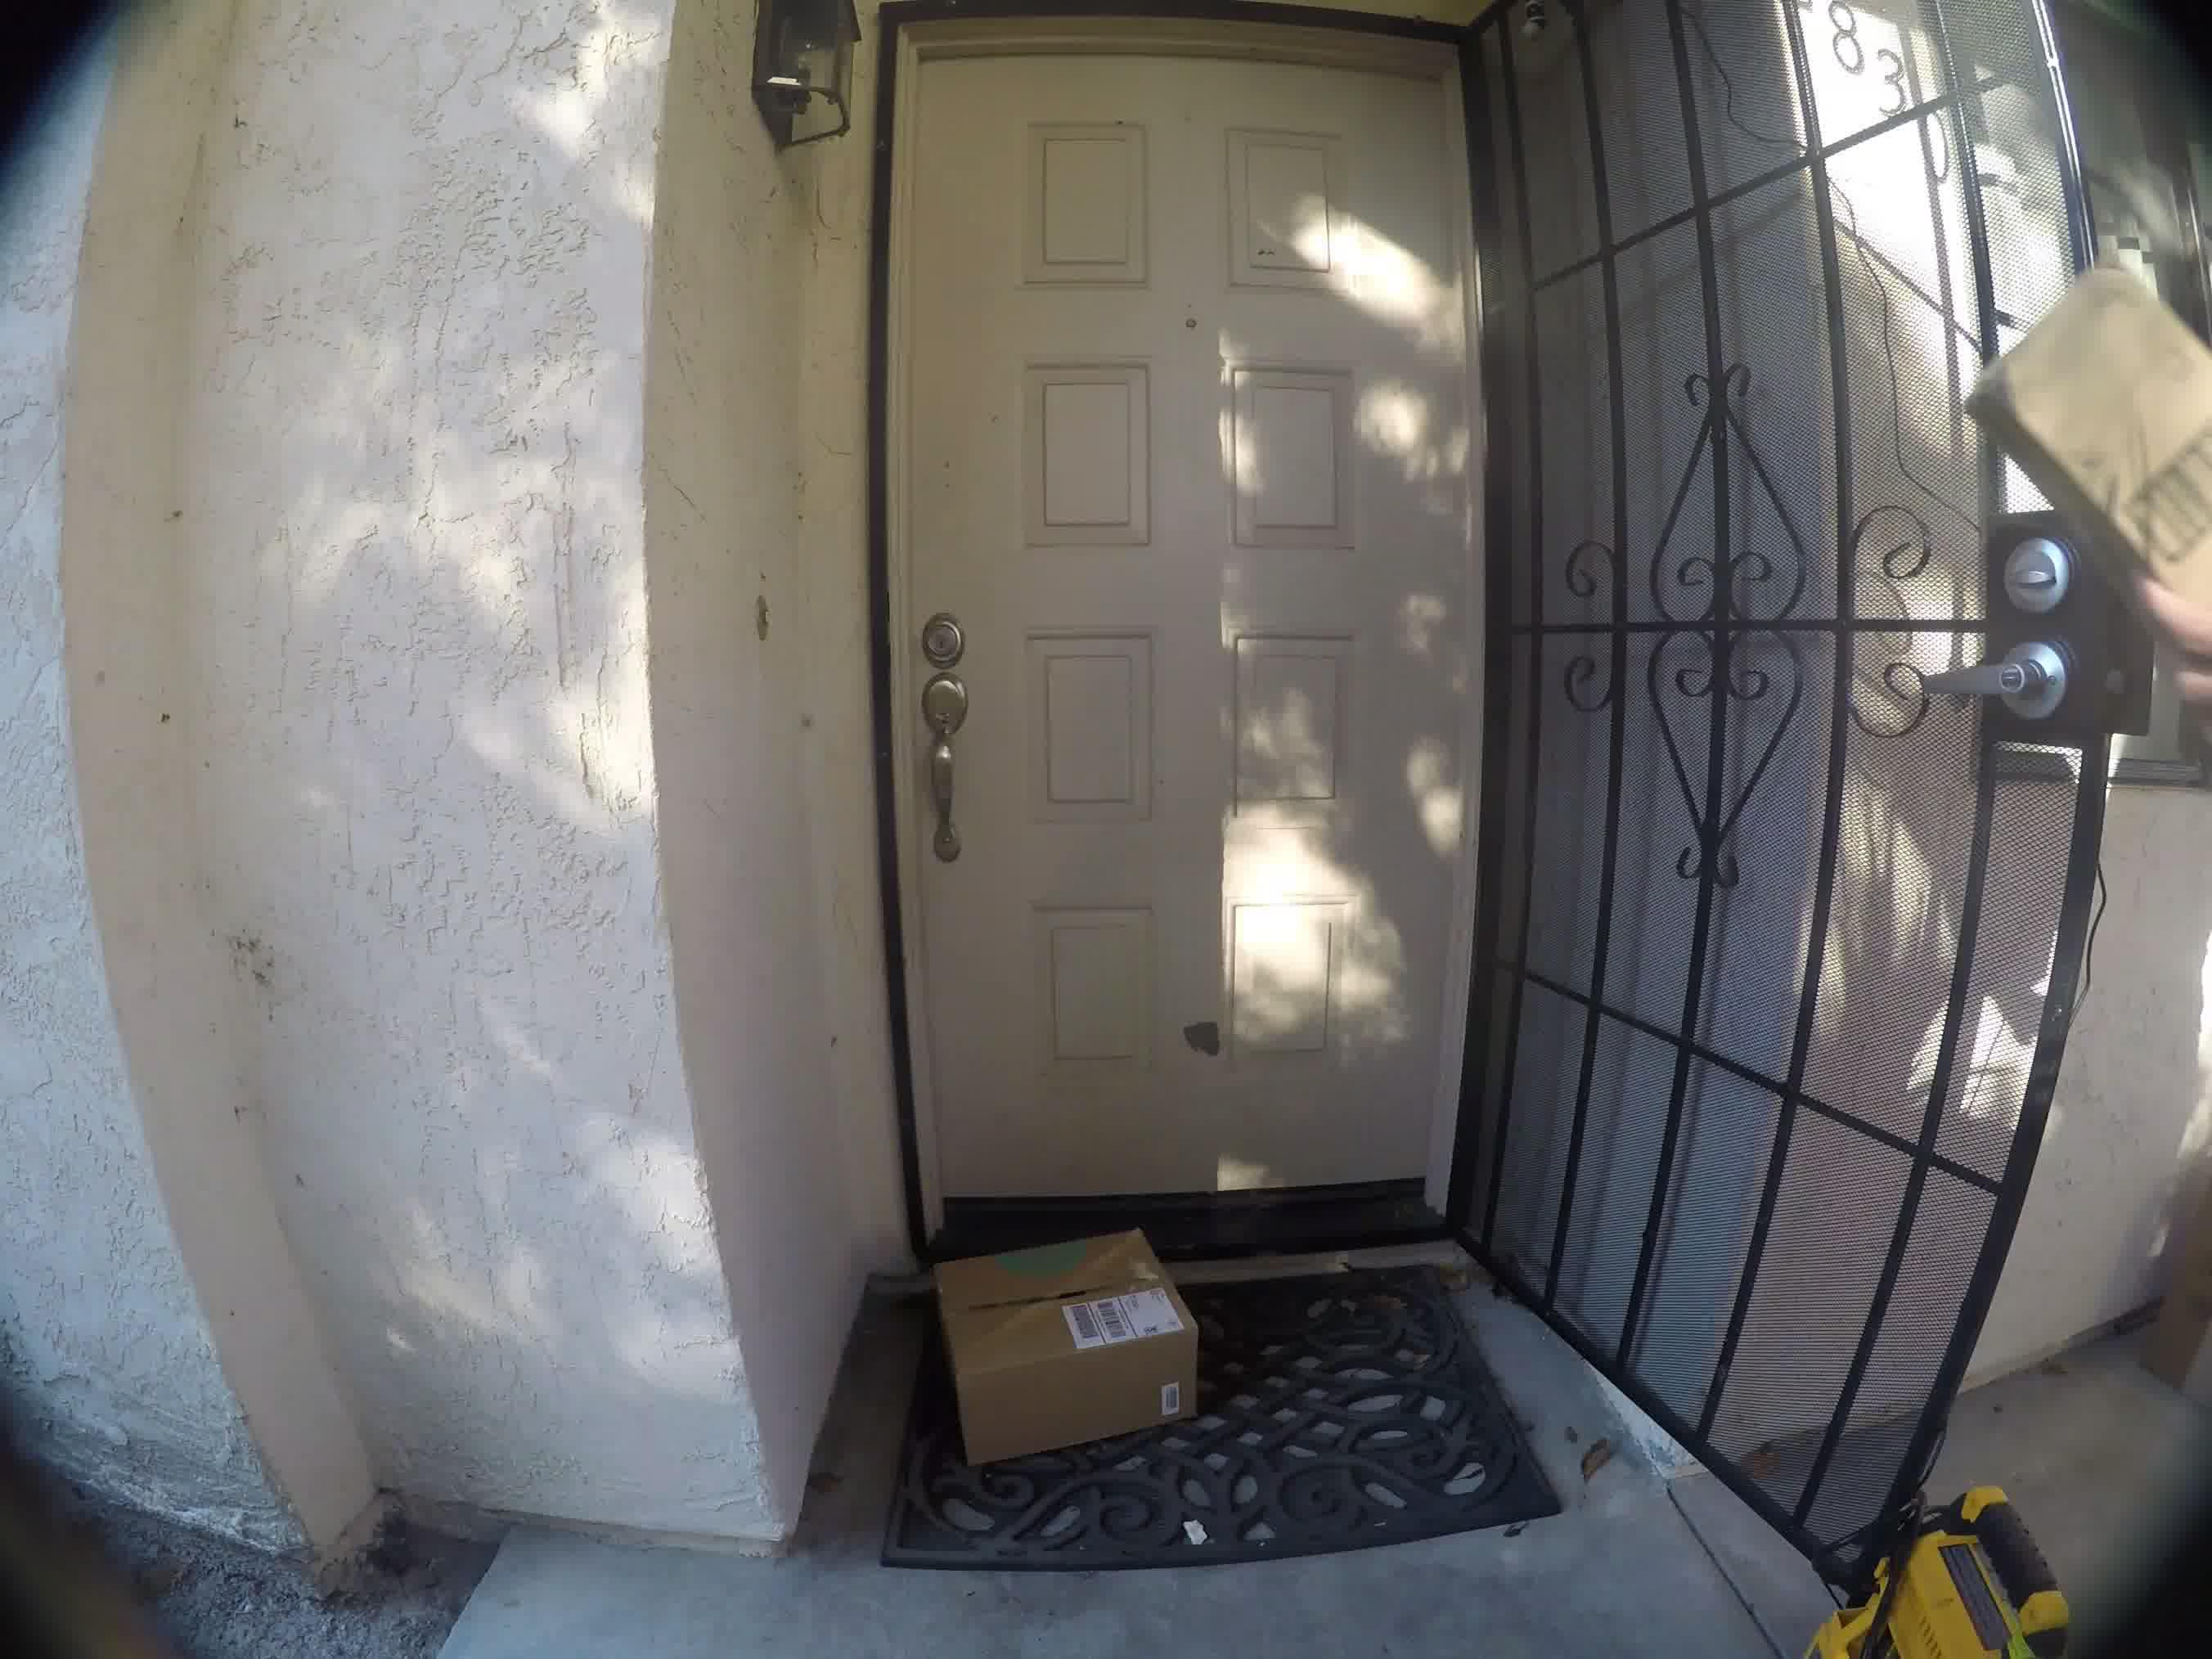box: (911, 1249, 1214, 1445)
